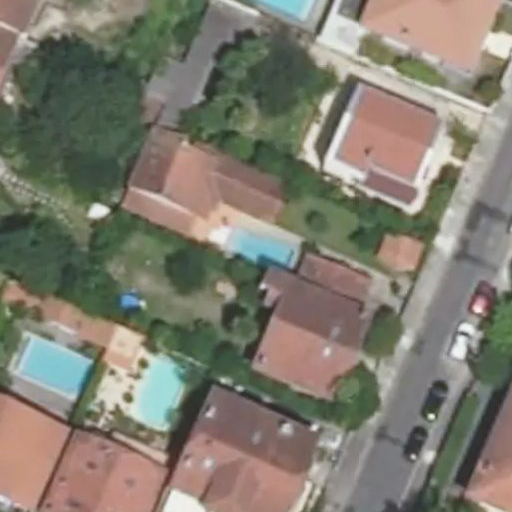pool: (20, 340, 91, 396), (132, 361, 186, 427), (228, 232, 291, 268), (264, 1, 314, 20)
